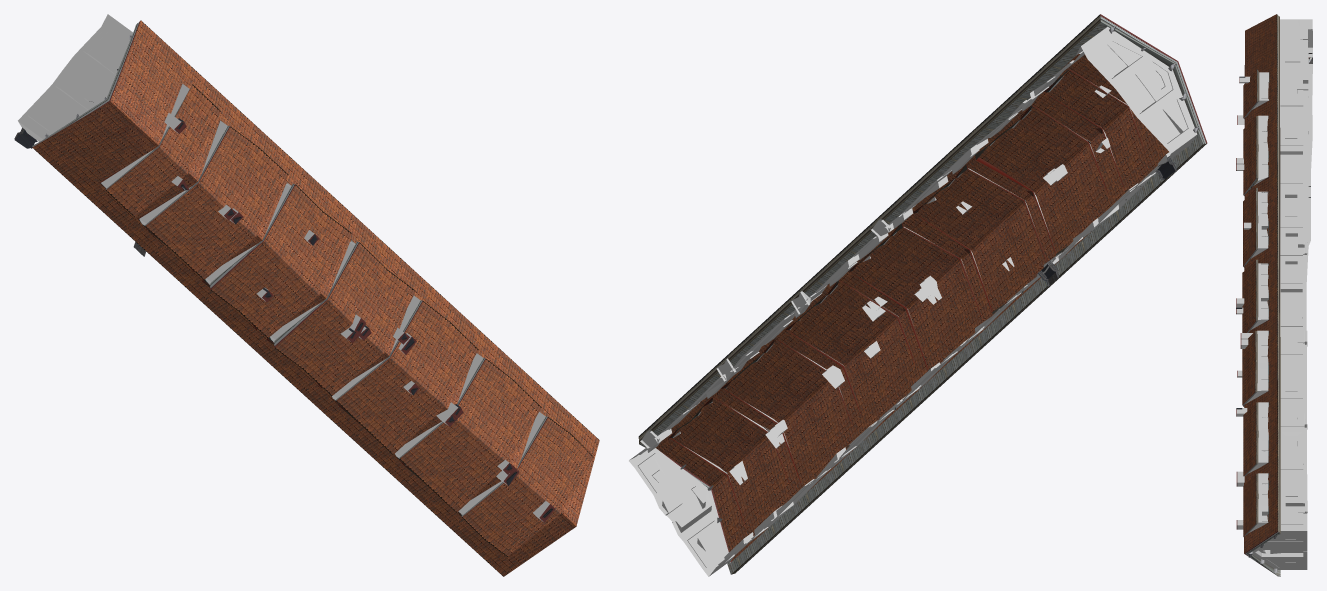
Rendered from Suurtyki_4a_1-origo.obj.
3 renders of one model, left to right at view 1: azimuth 30°, elevation 25°; view 2: azimuth 150°, elevation 25°; view 3: azimuth 270°, elevation 25°, orthographic. The views are drawn at different scales.
Parts seen in each view (by area): view 1: Suurtyki_4a; view 2: Suurtyki_4a; view 3: Suurtyki_4a.
Boxes of the visible parts, x1,y1,x2,y2 form: Suurtyki_4a: (14, 14, 599, 576); Suurtyki_4a: (629, 14, 1207, 576); Suurtyki_4a: (1236, 14, 1312, 576).
Size of the model in its own units: 52.38 by 57 by 9.01.
